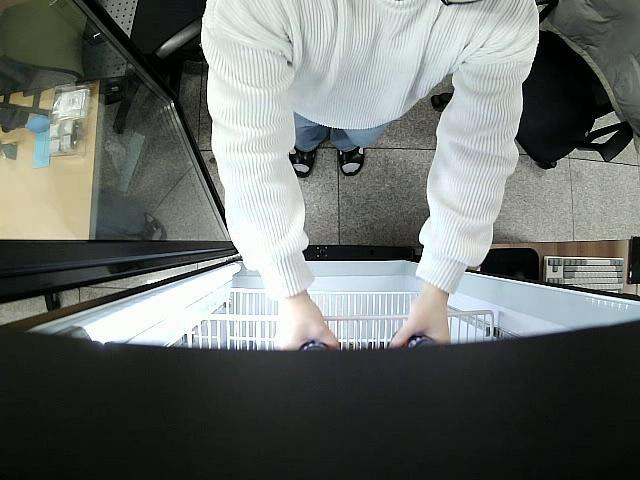16_hot6: (399, 330, 442, 353), (298, 338, 334, 353)
